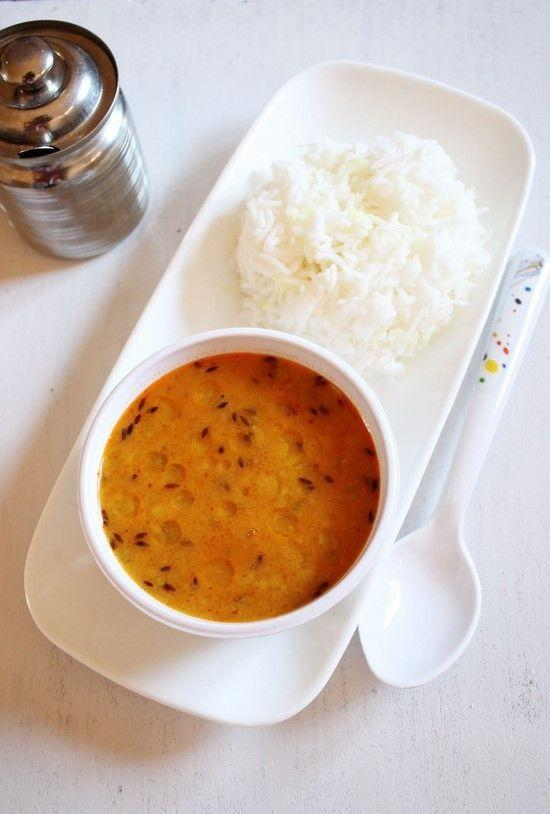rice: (257, 119, 483, 340)
varan: (105, 355, 358, 608)
